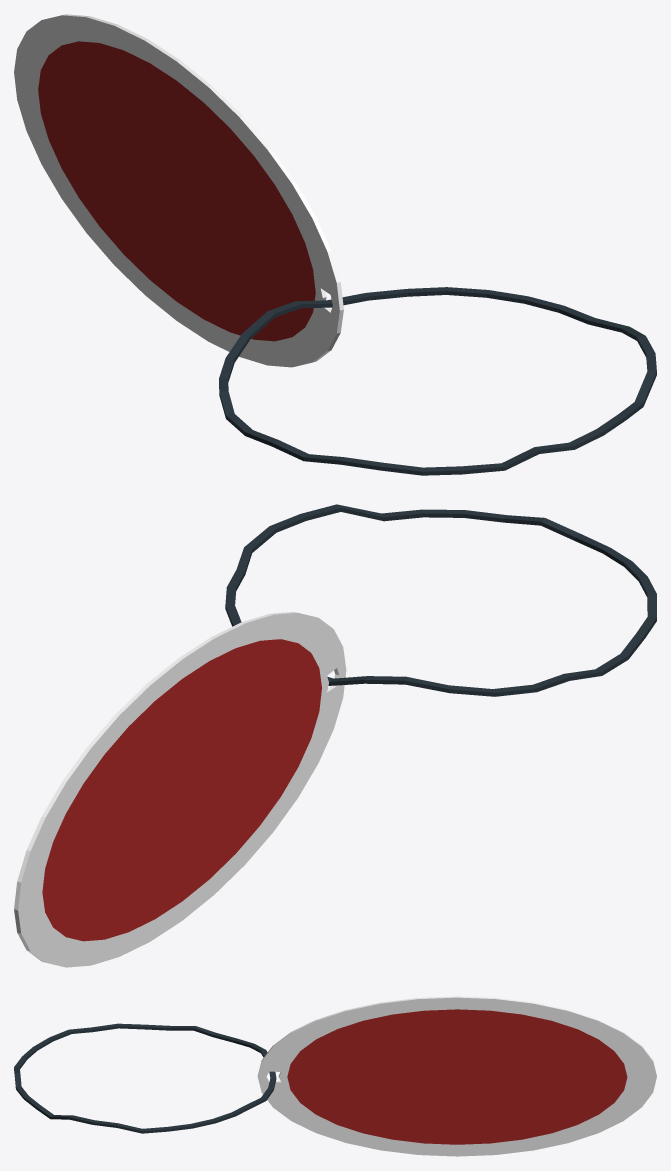
File: RedOvalTag.fbx
The picture shows the model from 3 angles, top to bottom: view 1: azimuth 30°, elevation 25°; view 2: azimuth 150°, elevation 25°; view 3: azimuth 270°, elevation 25°; orthographic projection. The views are drawn at different scales.
Parts seen in each view (by area): view 1: OvalTag; view 2: OvalTag; view 3: OvalTag.
Boxes of the visible parts, x1=… form: OvalTag: x1=14, y1=14, x2=656, y2=475; OvalTag: x1=14, y1=504, x2=656, y2=967; OvalTag: x1=14, y1=996, x2=656, y2=1156.
Bounding box in the file's own units: 55.34 × 35.79 × 131.
